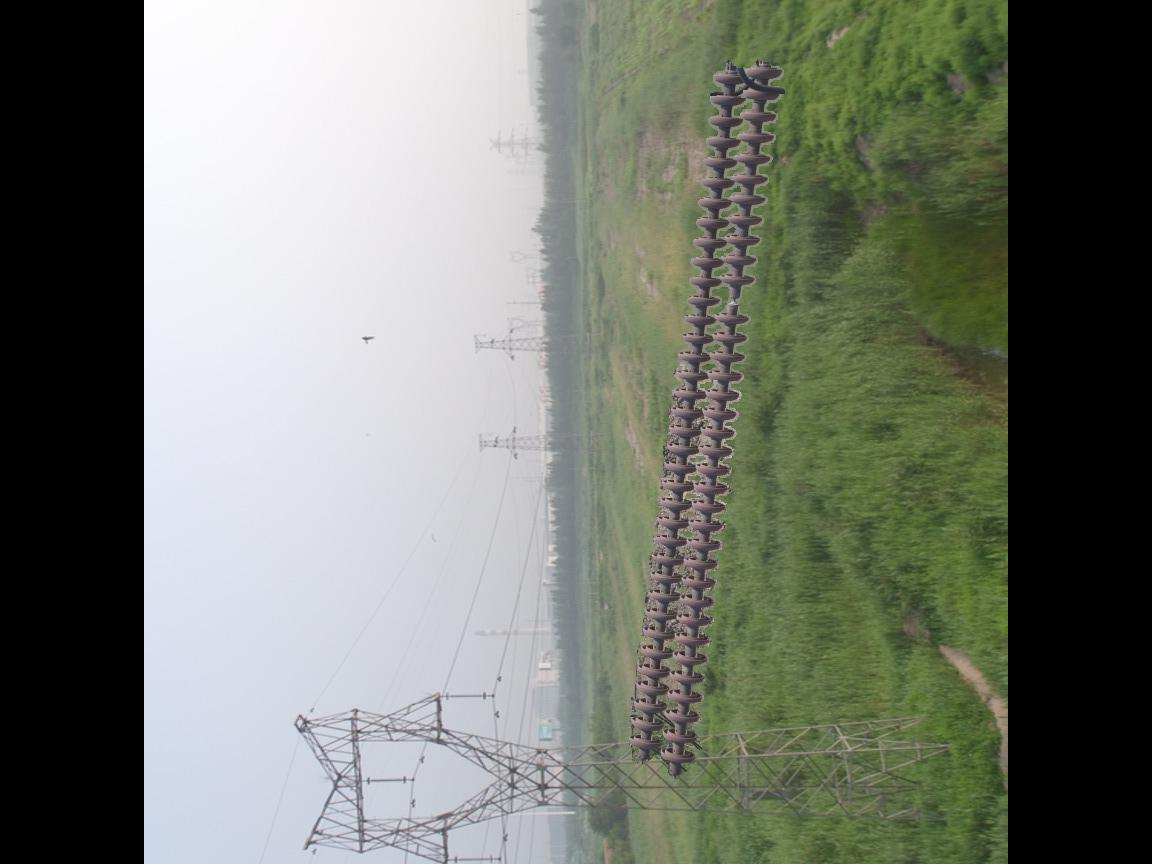insulator: (624, 56, 792, 779)
insulator_stringdrop: (714, 269, 758, 330)
